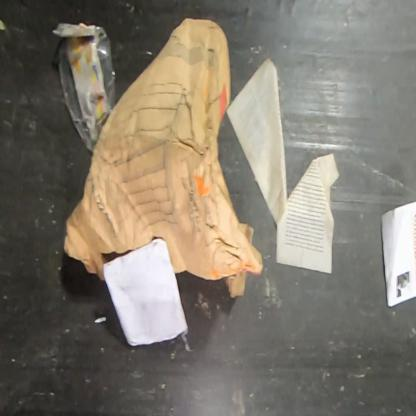soft_plastic: (50, 20, 118, 154)
